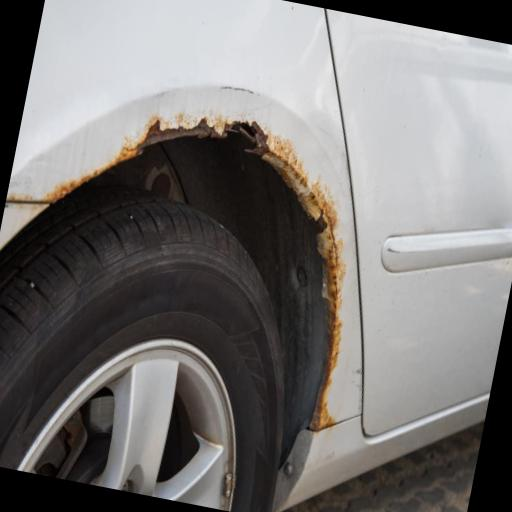corrosion: (300, 178, 347, 430), (258, 126, 314, 194)
